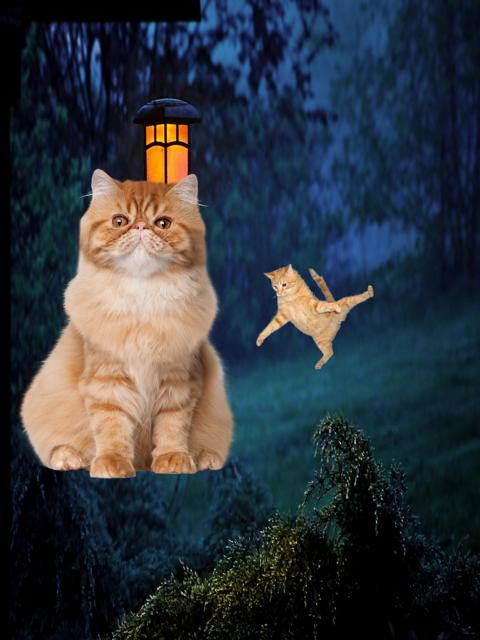cat: (11, 166, 244, 479), (257, 266, 372, 368)
